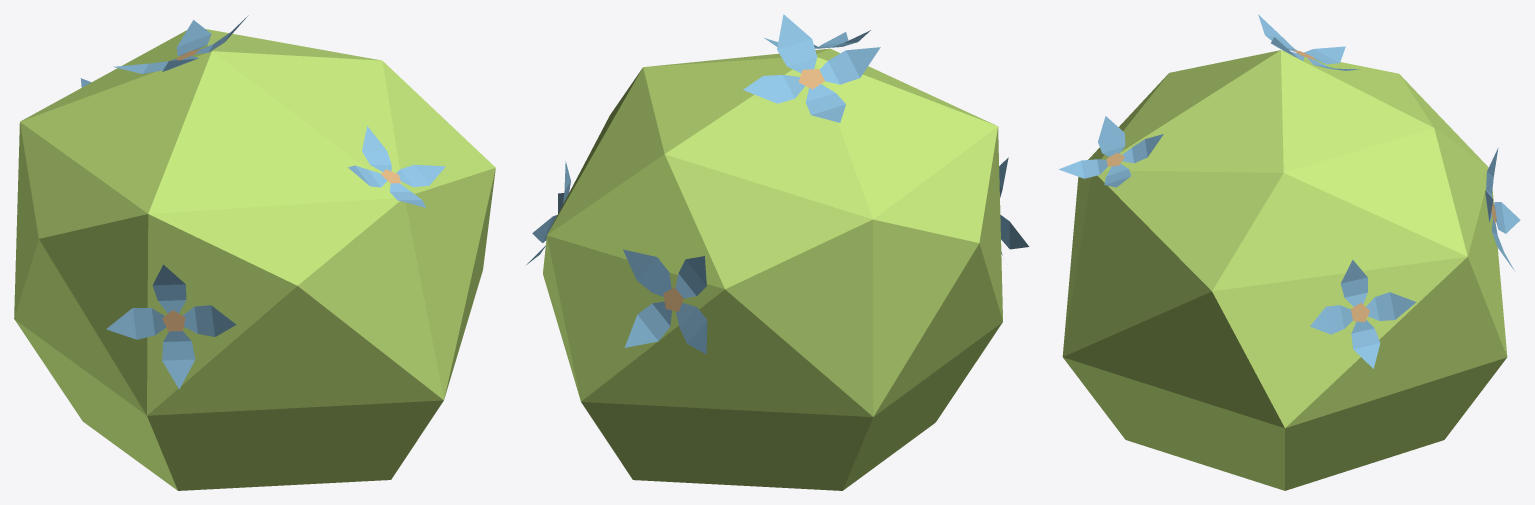
The model's file is FlowerBush_h_m_03.fbx.
The picture shows the model from 3 angles, left to right: view 1: azimuth 30°, elevation 25°; view 2: azimuth 150°, elevation 25°; view 3: azimuth 270°, elevation 25°; orthographic projection. The views are drawn at different scales.
Parts seen in each view (by area): view 1: FlowerBush_h_m_03; view 2: FlowerBush_h_m_03; view 3: FlowerBush_h_m_03.
Boxes of the visible parts, x1,y1,x2,y2 form: FlowerBush_h_m_03: (14, 15, 495, 490); FlowerBush_h_m_03: (526, 14, 1029, 490); FlowerBush_h_m_03: (1058, 14, 1520, 490).
Size of the model in its own units: 1.31 by 1.18 by 1.32.
